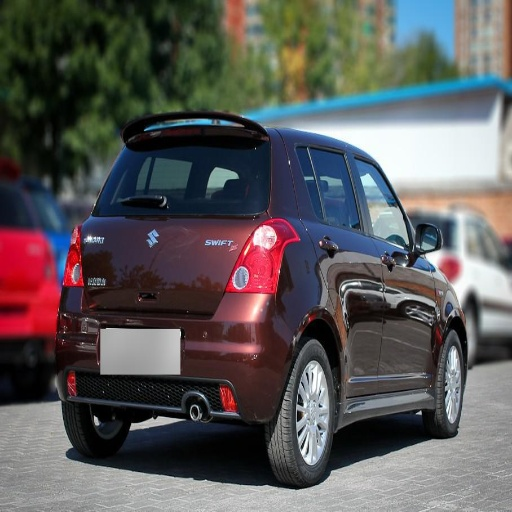back_bumper: (57, 294, 293, 418)
back_right_door: (291, 143, 383, 395)
trunk: (79, 217, 257, 329), (437, 104, 485, 138)
